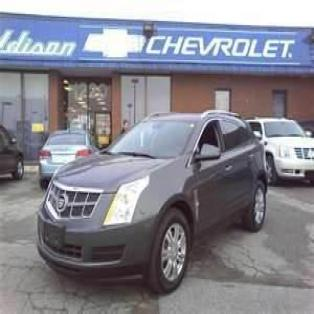Auto: (36, 109, 268, 297)
